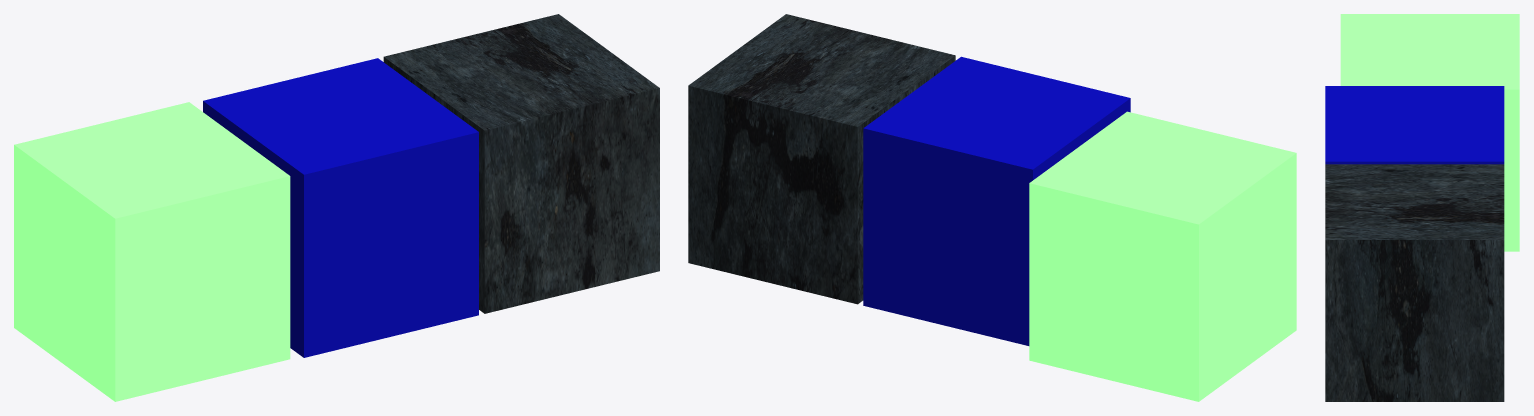
The model's file is Testing GLTF BLENDER RENDER.gltf.
The picture shows the model from 3 angles, left to right: view 1: azimuth 30°, elevation 25°; view 2: azimuth 150°, elevation 25°; view 3: azimuth 270°, elevation 25°; orthographic projection. The views are drawn at different scales.
Visible parts, largest first — view 1: Cube.001, Cube, Cube.002; view 2: Cube.001, Cube.002, Cube; view 3: Cube.002, Cube.001, Cube.
Part boxes in pixels (box(x1,y1,x2,y2)): Cube.001: box(14, 102, 290, 401); Cube: box(203, 58, 478, 357); Cube.002: box(383, 14, 659, 313); Cube.001: box(1029, 111, 1296, 401); Cube.002: box(688, 14, 955, 304); Cube: box(863, 56, 1130, 345); Cube.002: box(1325, 164, 1504, 401); Cube.001: box(1340, 14, 1519, 251); Cube: box(1325, 86, 1504, 164).
Size of the model in its own units: 6.12 by 2.07 by 2.17.
3 materials, 1 textured.
